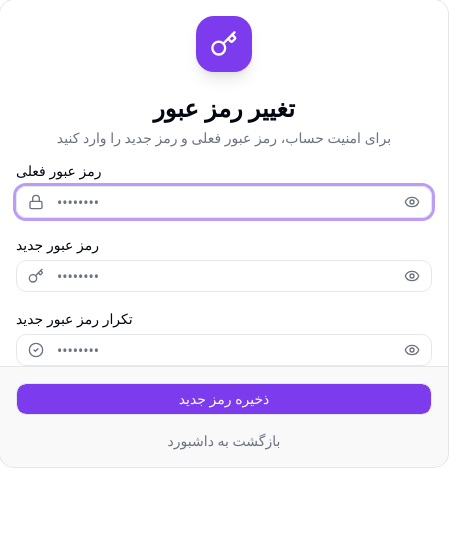
Test case: SettingsPasswordForm › shows validation errors for empty submit
This screenshot has width=466, height=557.
Click the button "ذخیره رمز جدید". click: (224, 399)
box: top-left (16, 383), bottom-right (432, 415)
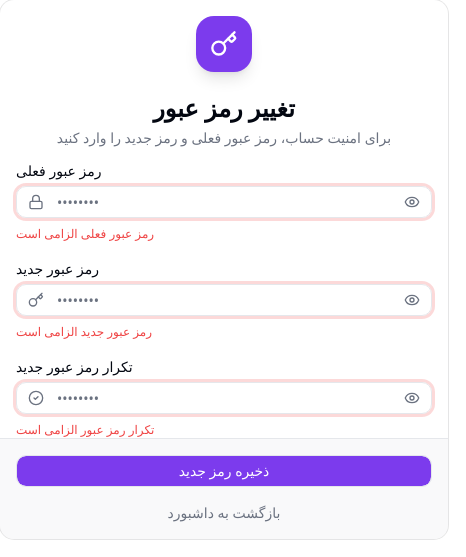
Expected: the text "رمز عبور فعلی الزامی است" is shown, top-left (16, 225), bottom-right (154, 242)
Expected: the text "رمز عبور جدید الزامی است" is shown, top-left (16, 323), bottom-right (152, 340)
Expected: the text "تکرار رمز عبور الزامی است" is shown, top-left (16, 421), bottom-right (154, 438)
